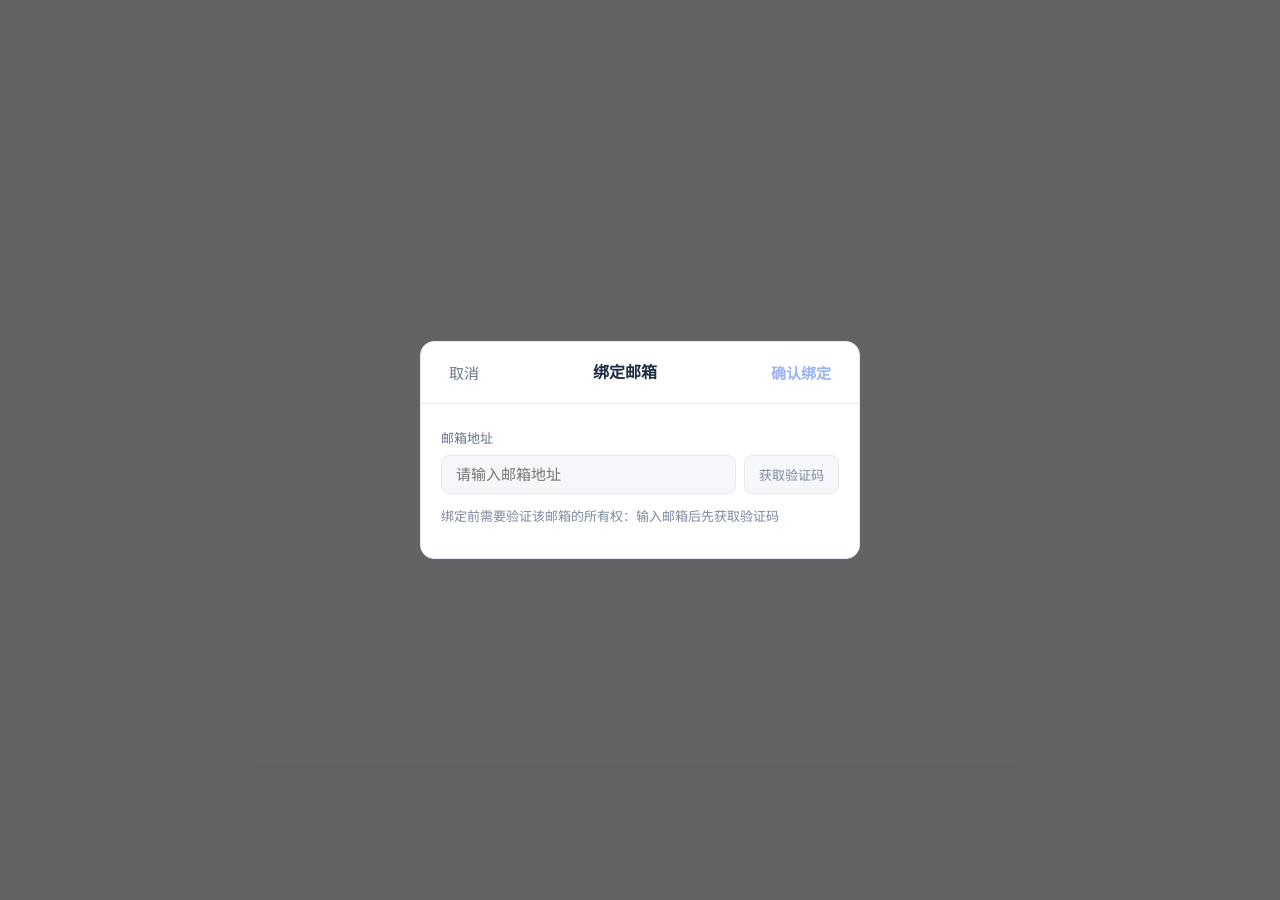
Test: BindEmailModal verified-binding flow › conflict surfaces a friendly error and keeps the modal open
The width and height of the screenshot is (1280, 900).
Type "taken@example.test" into the field with placeholder "请输入邮箱地址" at (588, 474), box [441, 454, 736, 494]
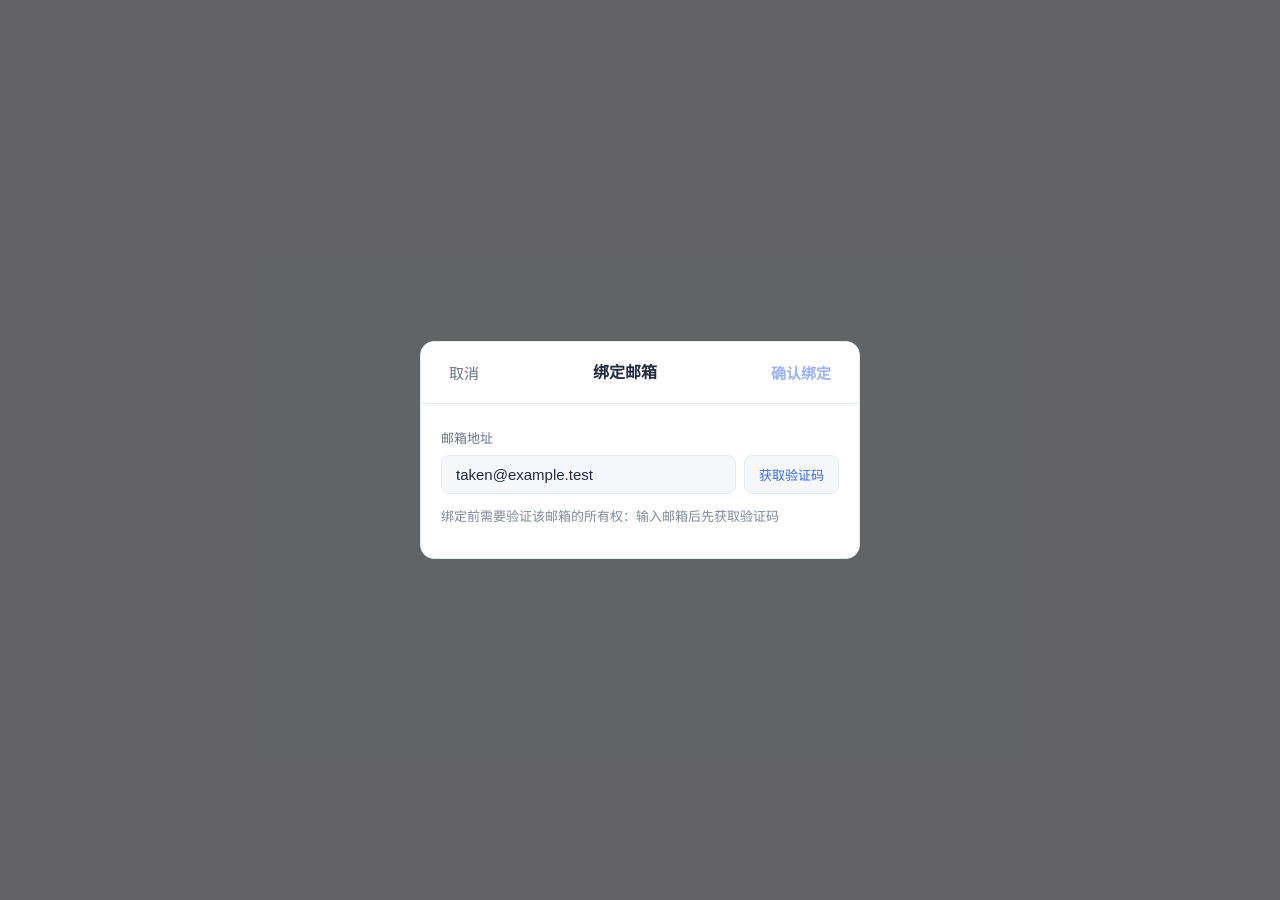
Click the button with test id "send-code" at (792, 474), box [744, 454, 839, 494]
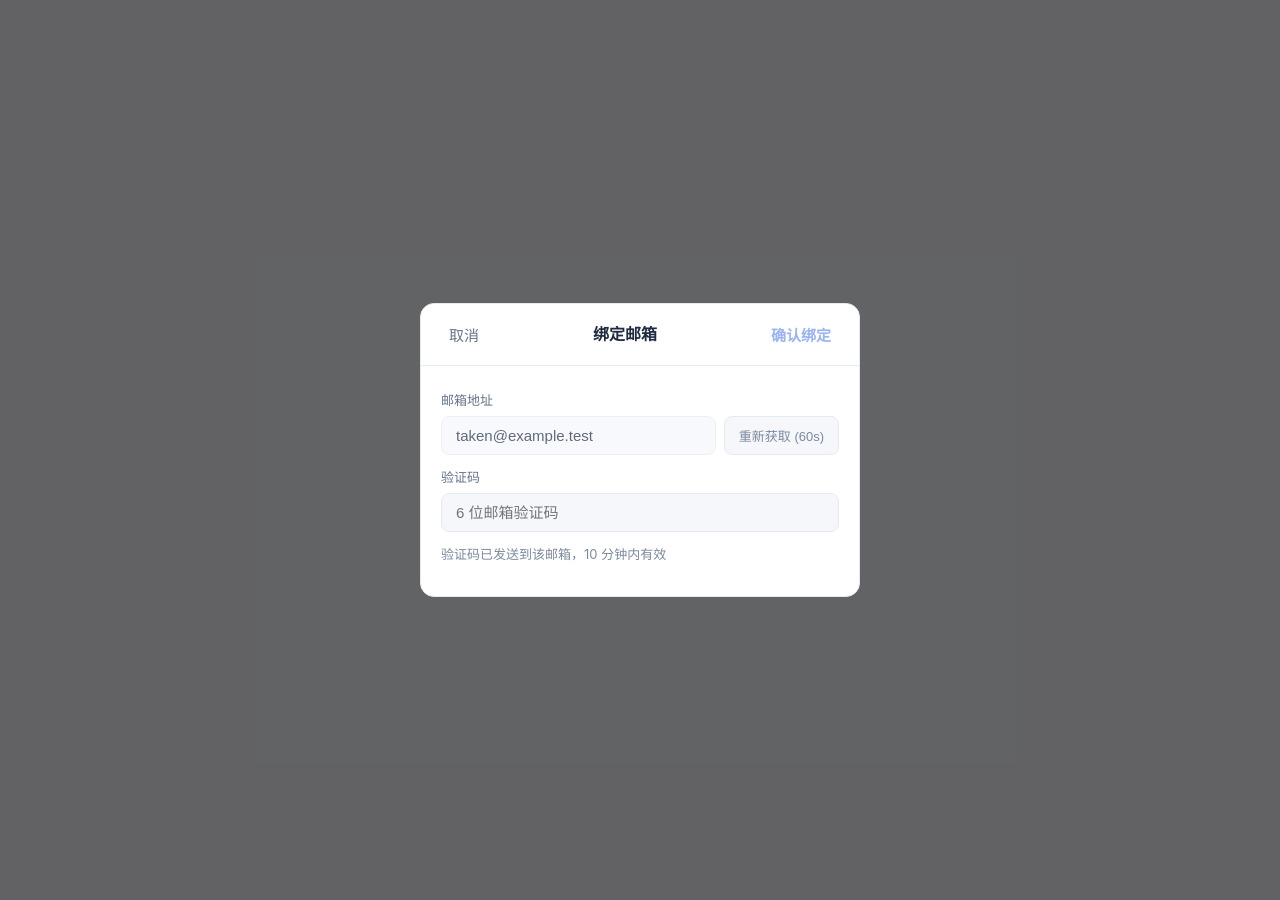
Type "654321" into the field with test id "code" at (640, 513), box [441, 493, 839, 532]
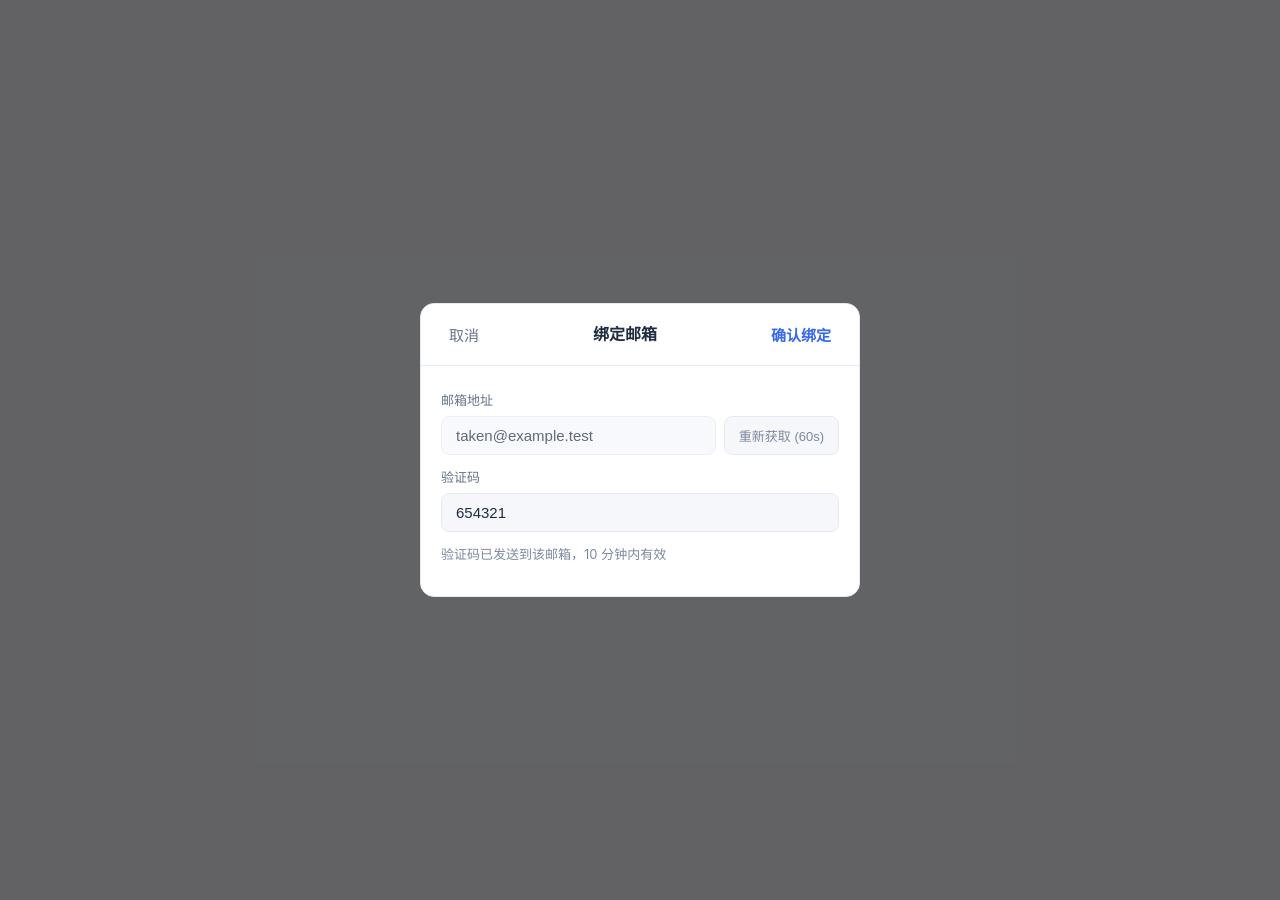
Click the button with test id "confirm" at (801, 334), box [763, 320, 839, 349]
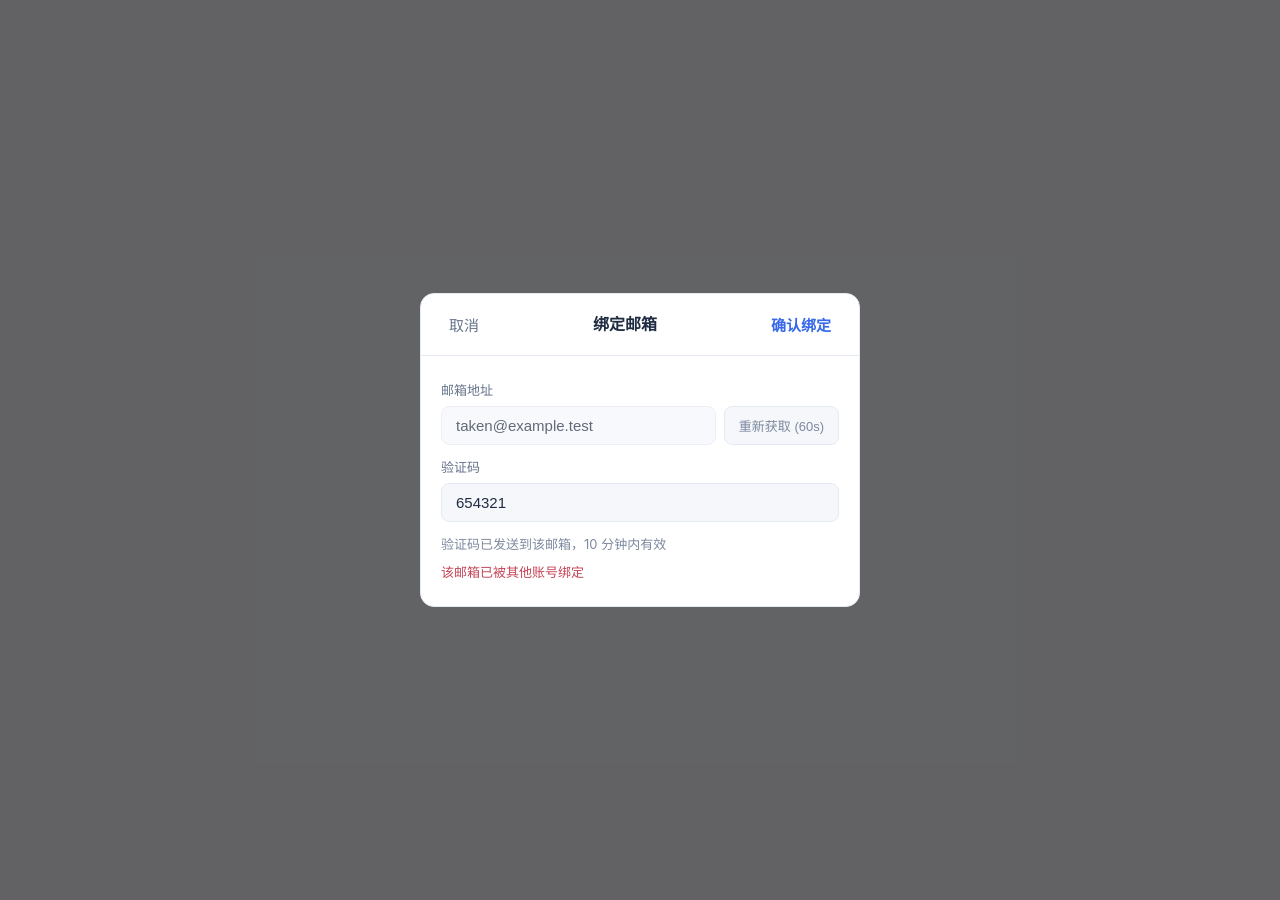
Expected: the text "该邮箱已被其他账号绑定" is shown, [441, 564, 584, 580]
